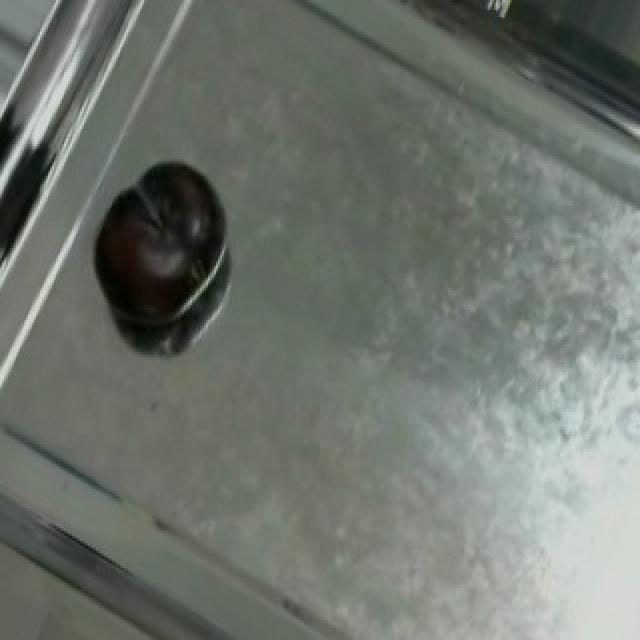Fruit: (74, 139, 240, 350)
